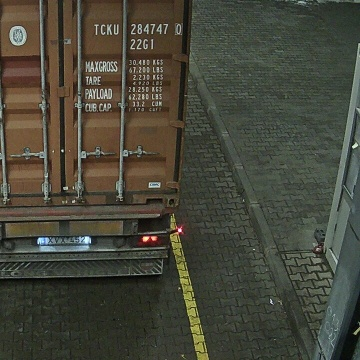serial_id: (94, 23, 181, 35)
